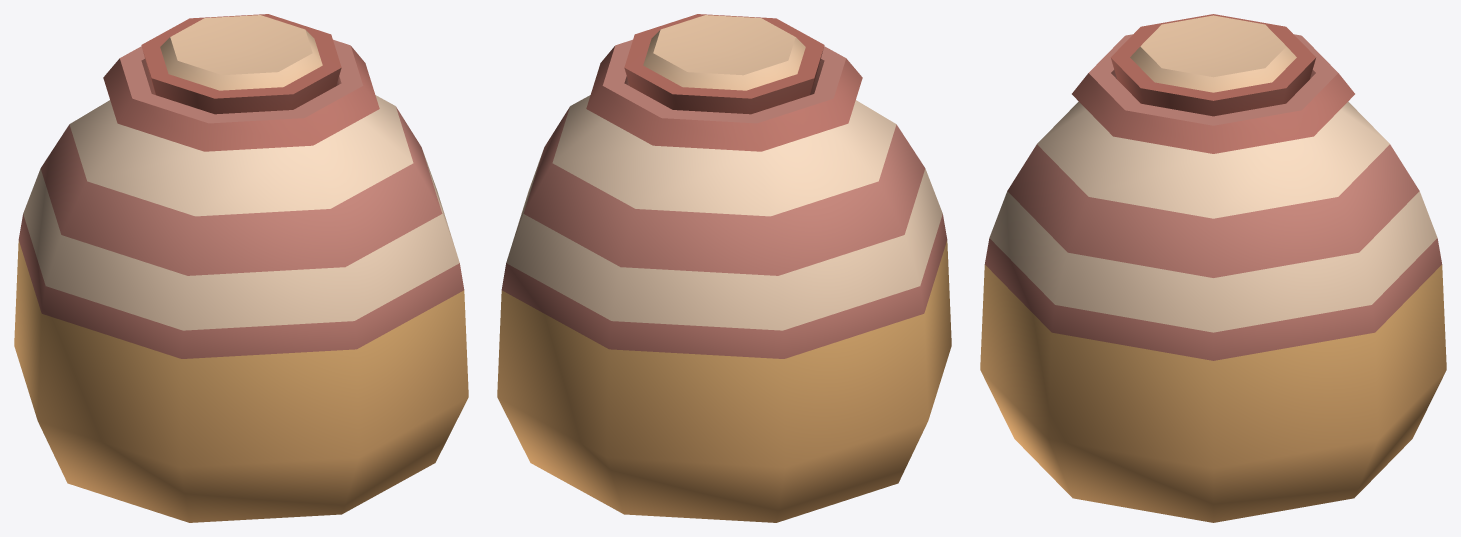
File: UrnS1.fbx
3 views of the same model, side by side, from view 1: azimuth 30°, elevation 25°; view 2: azimuth 150°, elevation 25°; view 3: azimuth 270°, elevation 25° (orthographic).
Visible parts, largest first — view 1: UrnS1; view 2: UrnS1; view 3: UrnS1.
Boxes of the visible parts, x1,y1,x2,y2 form: UrnS1: (14, 14, 468, 522); UrnS1: (497, 14, 951, 522); UrnS1: (980, 14, 1446, 522).
Bounding box in the file's own units: 50 × 49.78 × 50.
